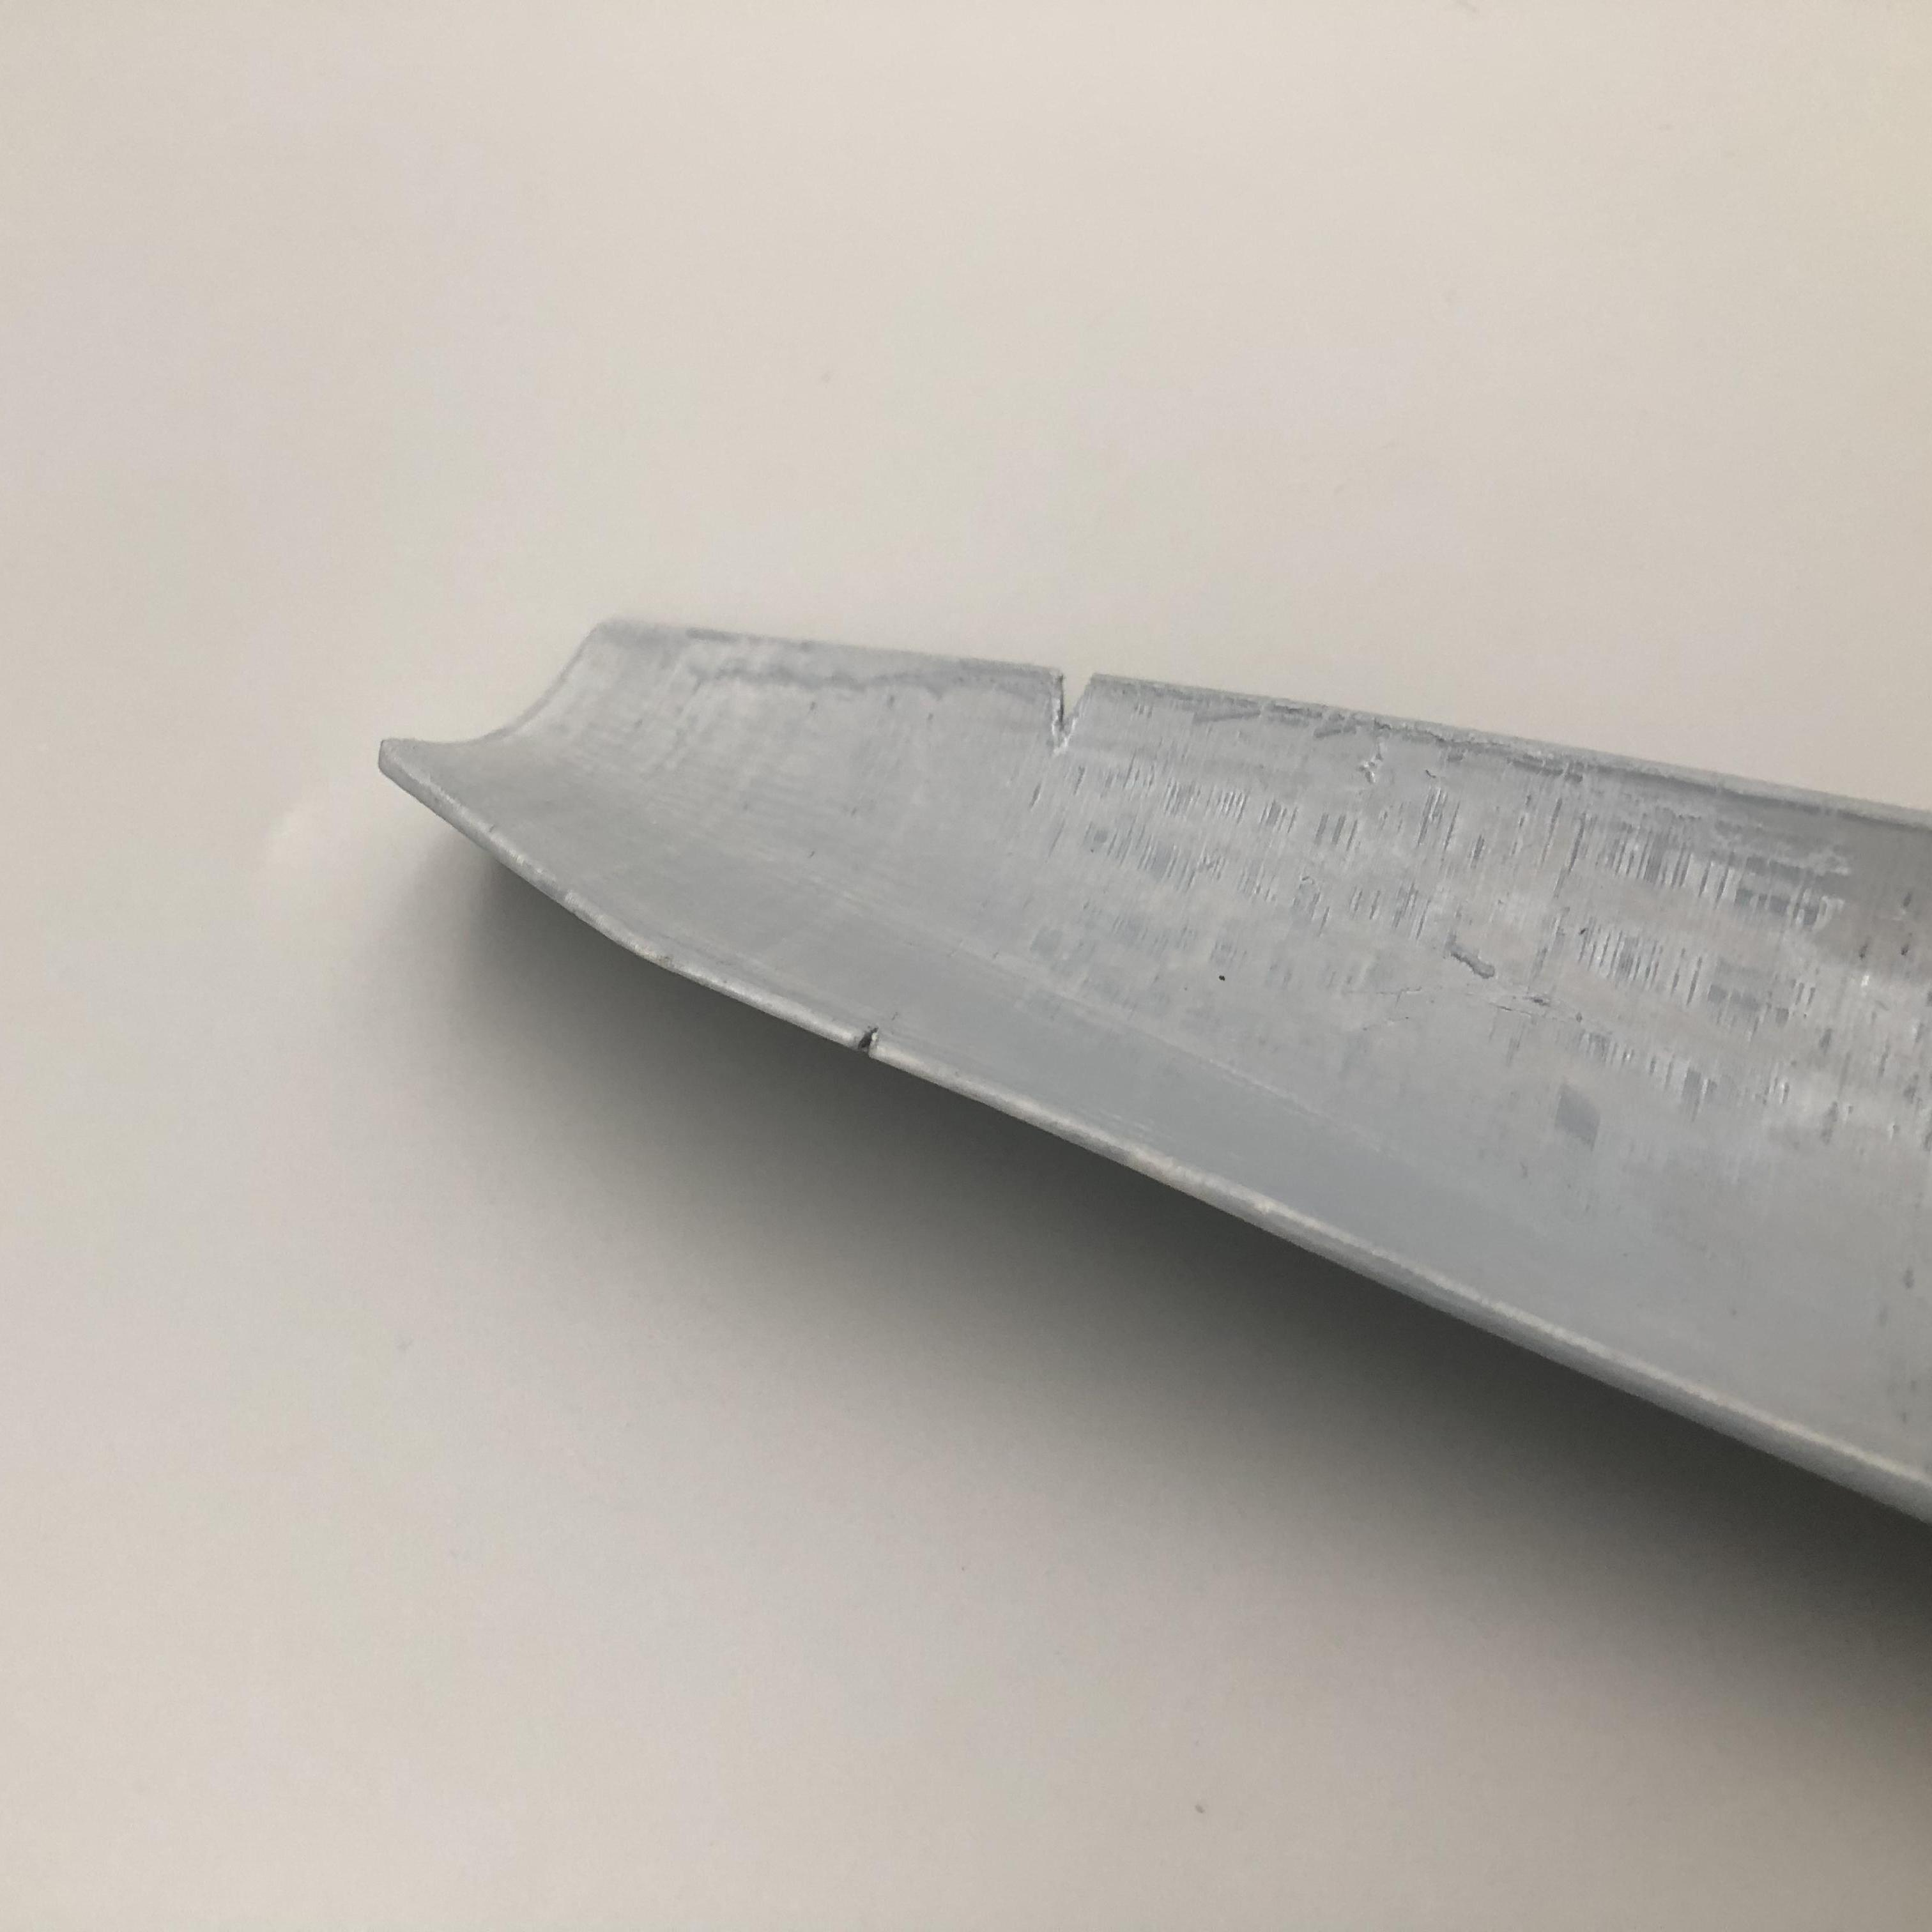groove: (1042, 681, 1106, 745), (842, 1019, 892, 1056)
